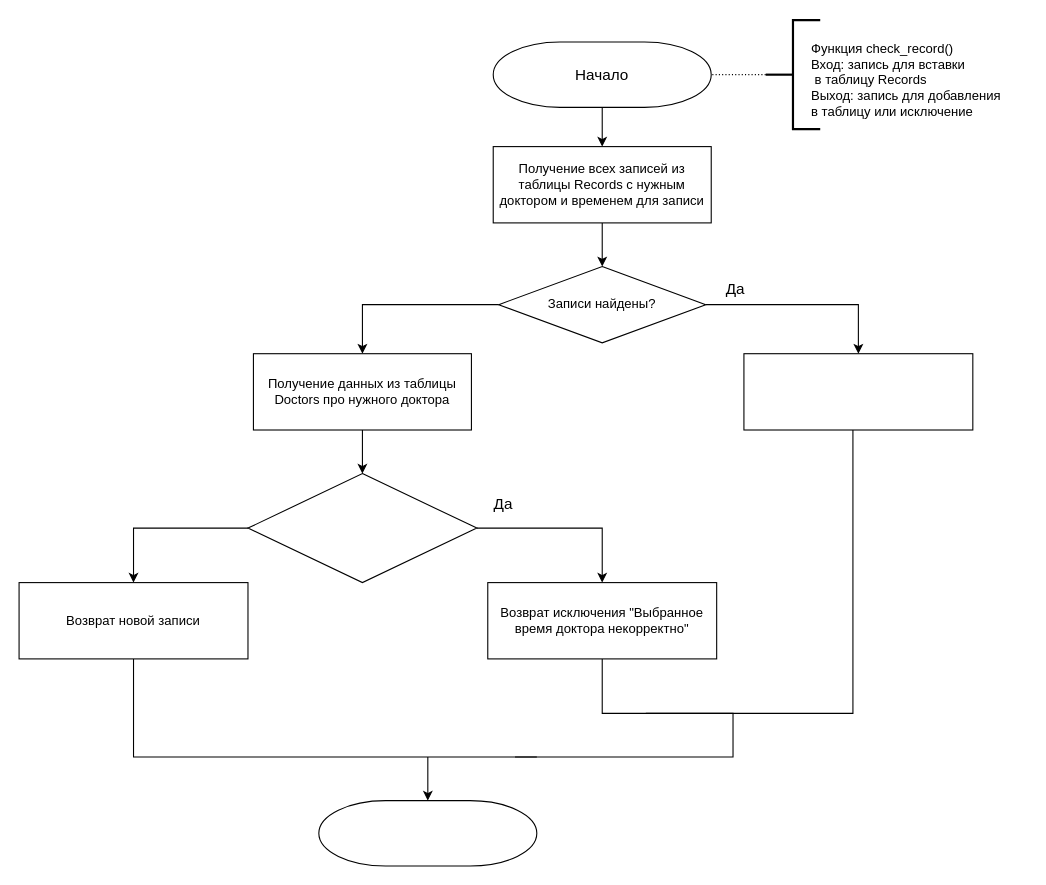
Some shapes in this 1046 by 885 pixel diagram are drawn without their labels. The centre of each missing label's shape, as x and y in pixels:
Возврат исключения "Время для записи занято": (x=858, y=391)
Конец: (x=427, y=833)
Протеворечит выбранное время расписанию доктора?: (x=362, y=528)
